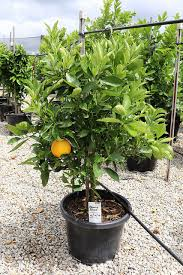orange: (48, 135, 72, 159)
